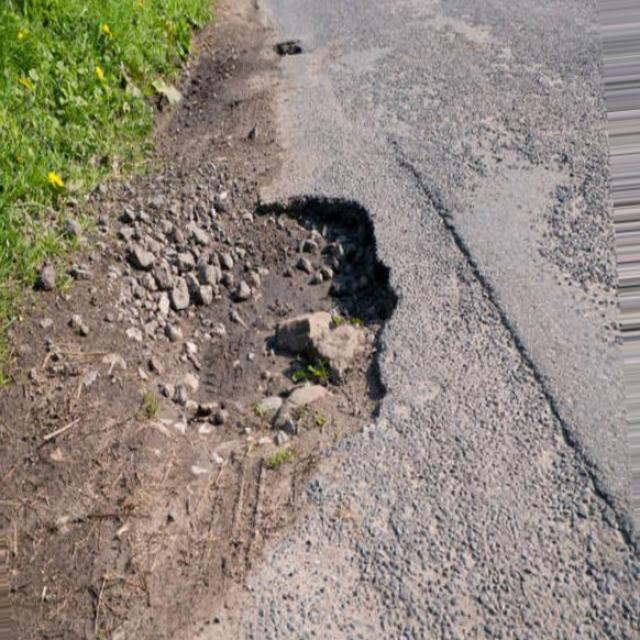Pinggir: (234, 190, 405, 474)
